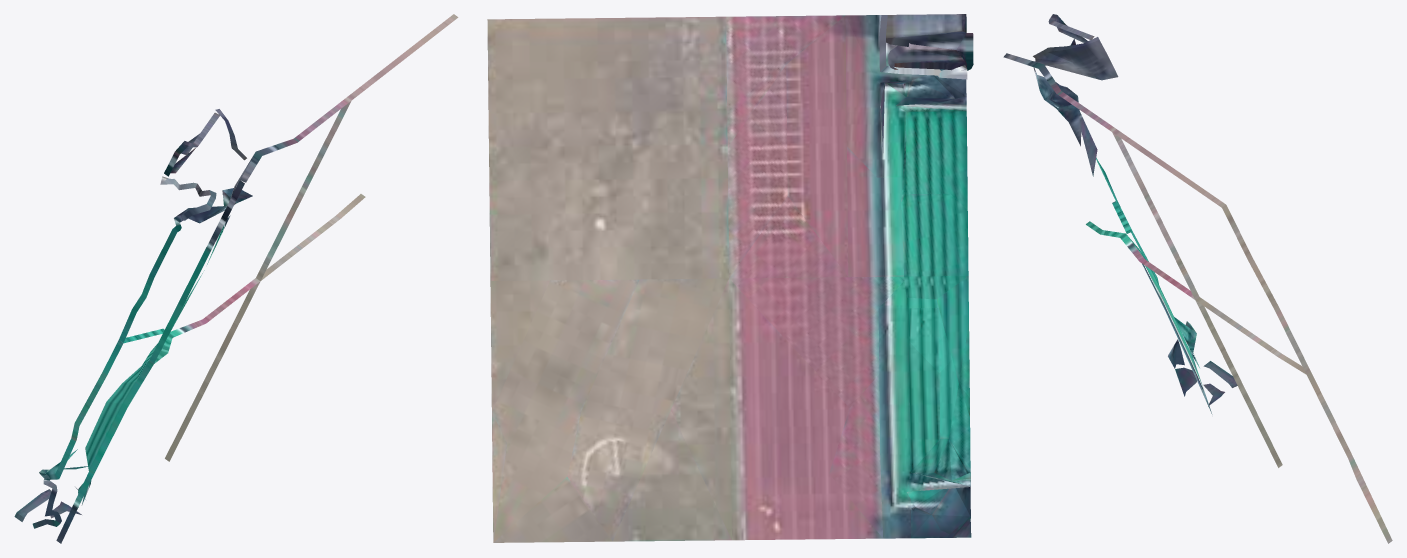
3 renders of one model, left to right at view 1: azimuth 30°, elevation 25°; view 2: azimuth 150°, elevation 25°; view 3: azimuth 270°, elevation 25°, orthographic. The views are drawn at different scales.
Bounding box in the file's own units: 40.19 × 37.16 × 32.18.
Materials: 1 (1 with a texture image).
